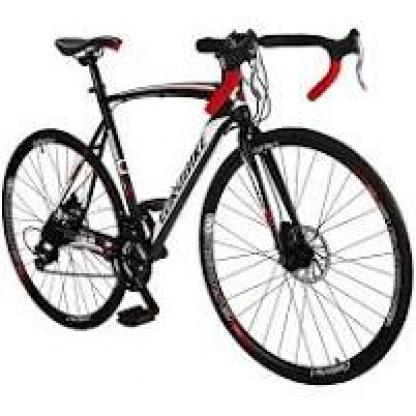Bike: (1, 33, 416, 382)
